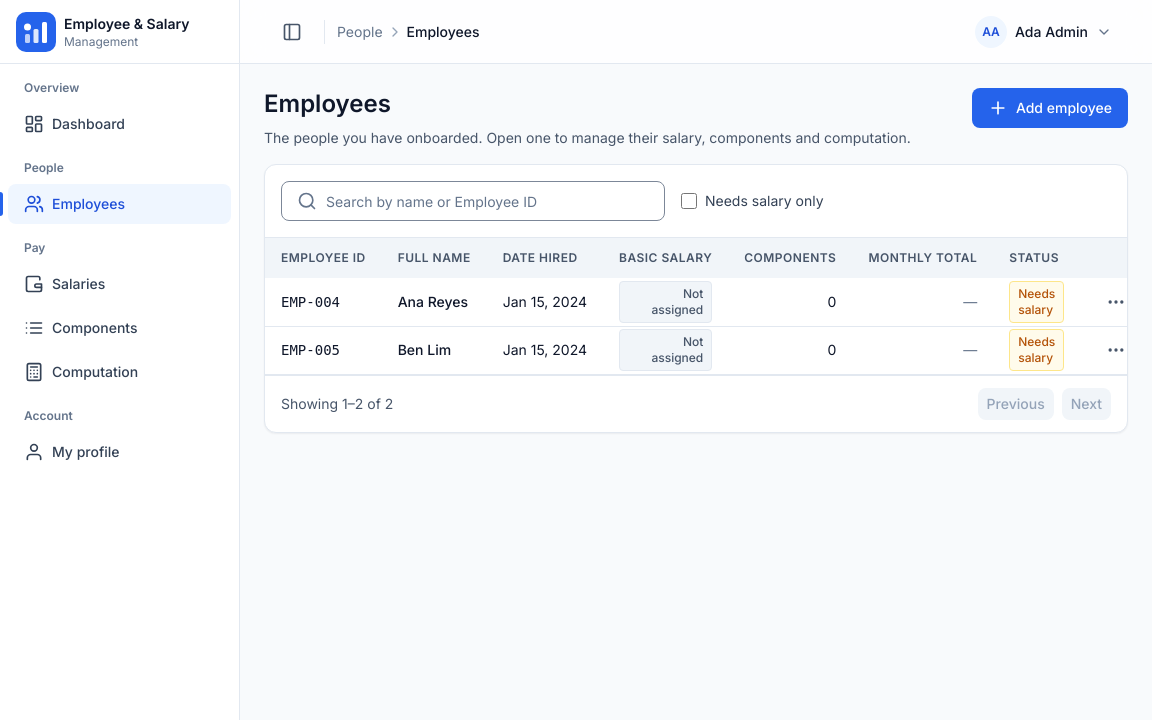
Test: Employees page › searches on the server after a pause, and can clear a search with no results
Expected: the link "Ana Reyes" is shown, [398,293,468,310]
Type "lim" into the search field named "Search employees".
click(473, 201); type("lim")  # box [281,181,665,221]
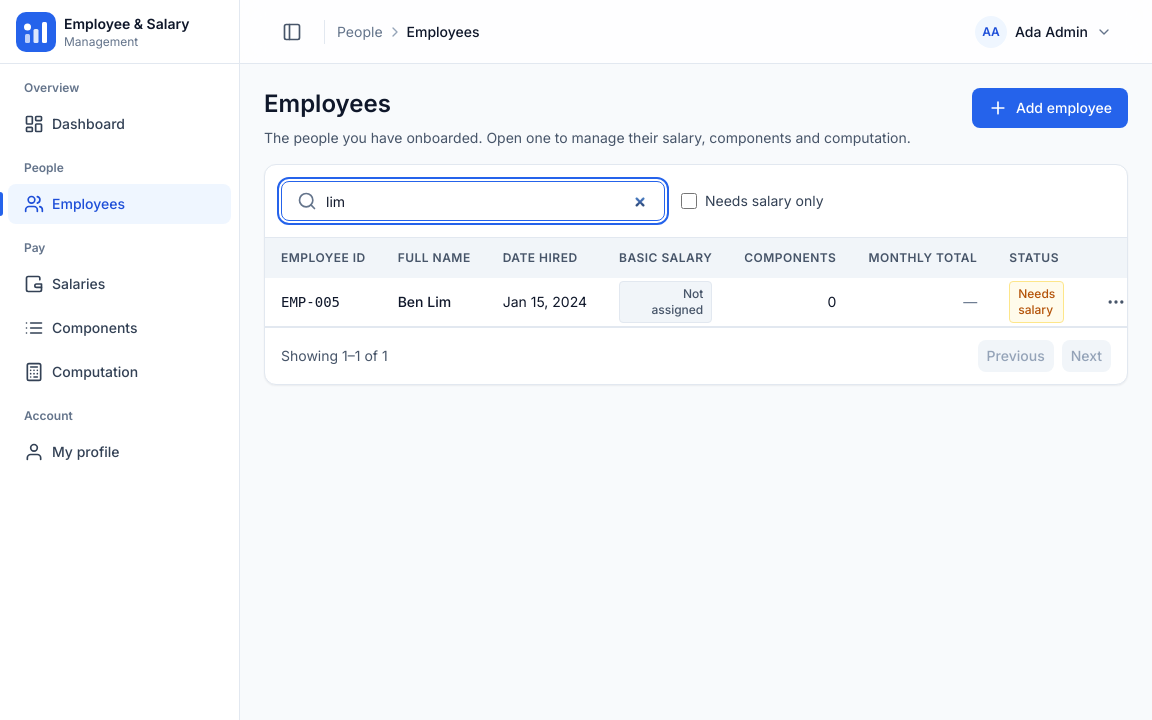
Expected: the link "Ben Lim" is shown, [398,293,451,310]
Result: the link "Ana Reyes" is gone
Replace the text in the search field with "zzz" at (473, 201), box [281,181,665,221]
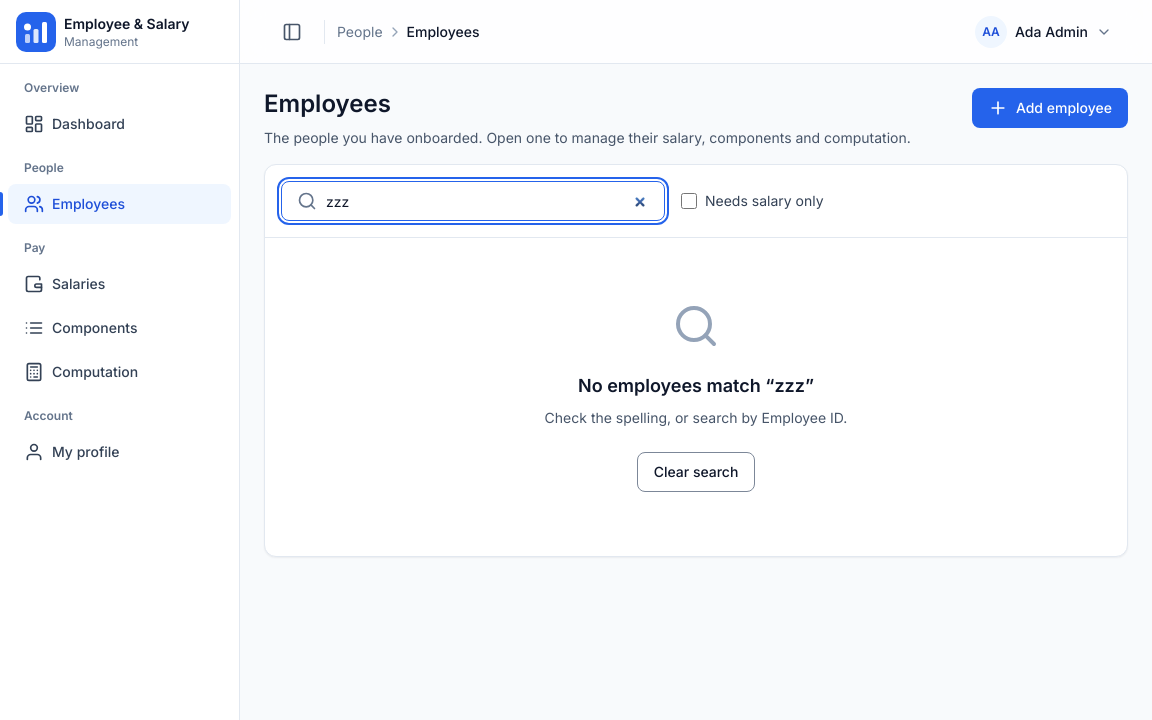
Result: the heading "No employees match “zzz”" is shown at [578,372,814,400]
Click the button "Clear search".
click(696, 472)  # box [637,452,755,492]
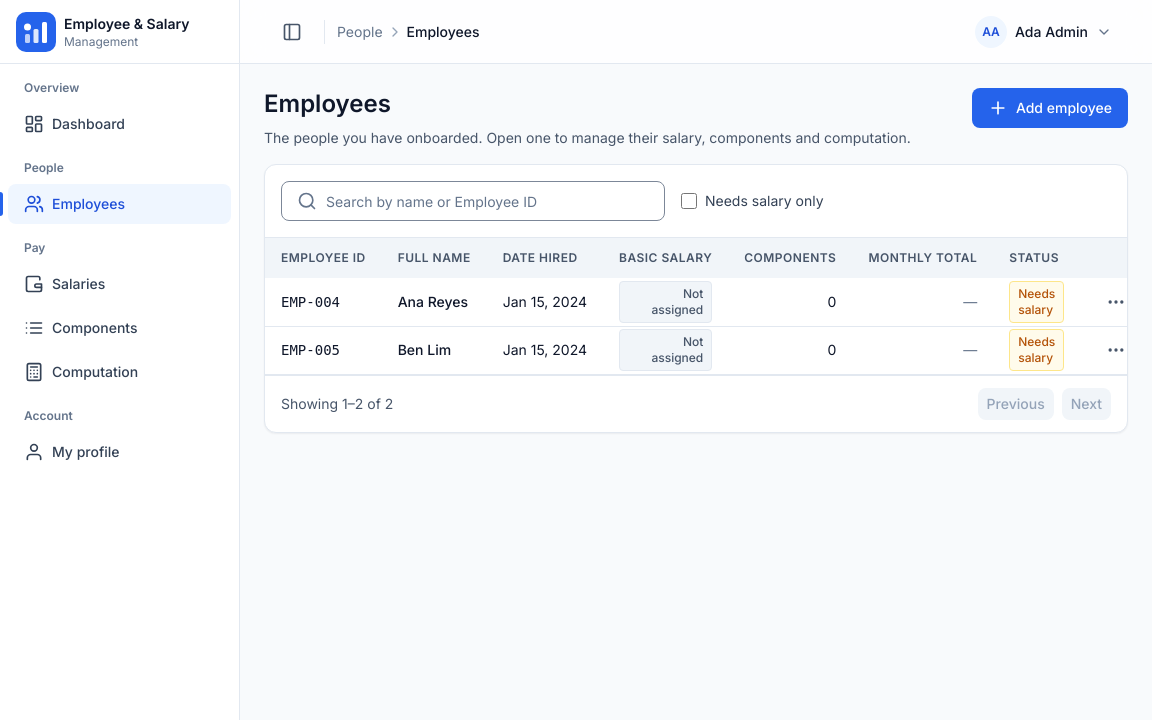
Result: the link "Ana Reyes" is shown at [398,293,468,310]
